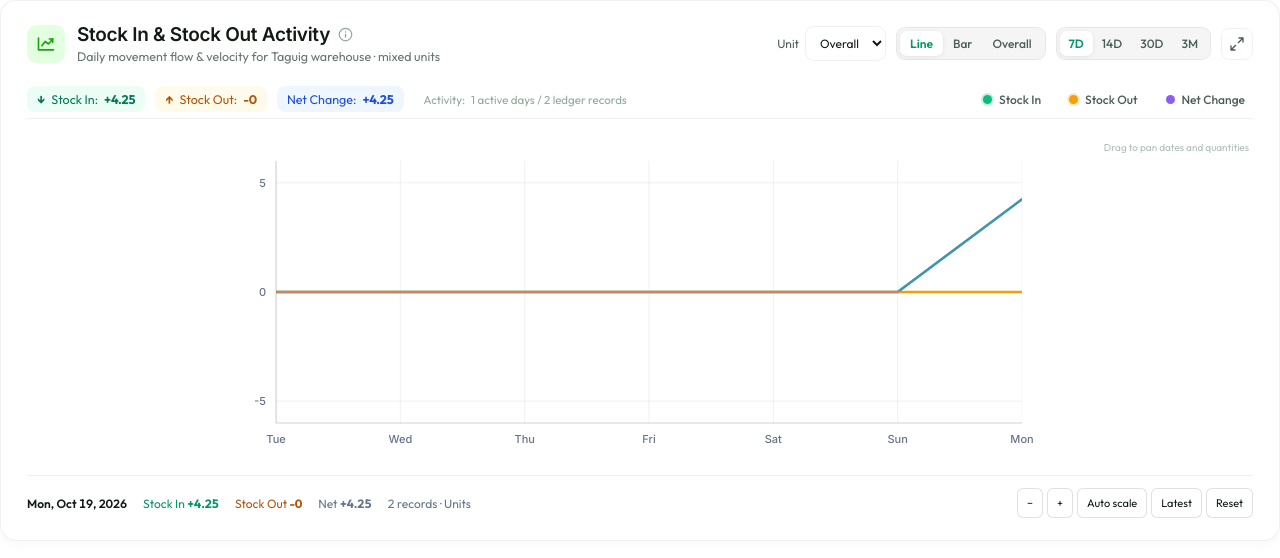
individual unit selections filter pieces and measured stock
Select "PCS" in the dropdown named "Chart unit of measure": [846, 44] box [805,26,886,61]
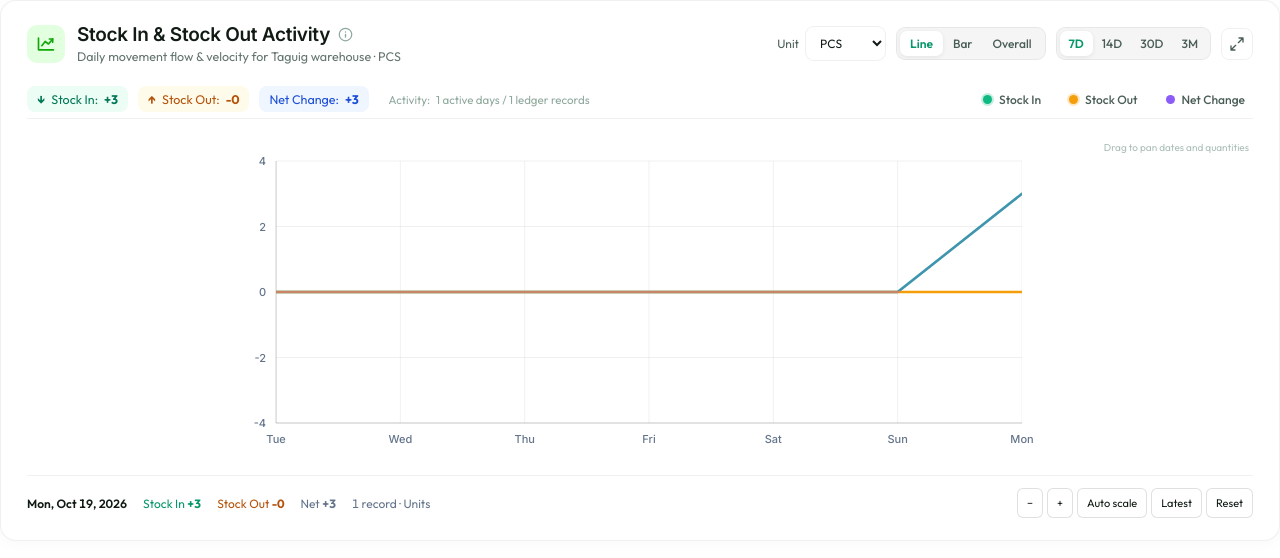
Check: the text "+3" next to "Stock In:" is shown, box [104,91,118,107]
Select "METER" in the dropdown named "Chart unit of measure": [846, 44] box [805,26,886,61]
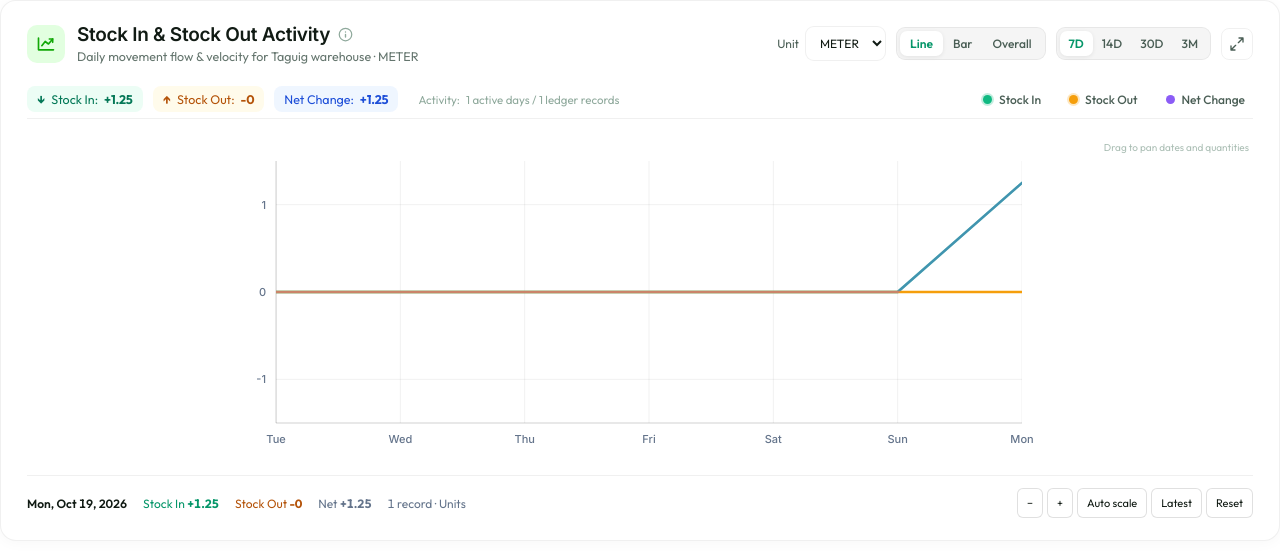
Check: the text "+1.25" next to "Stock In:" is shown, box [104,91,133,107]
